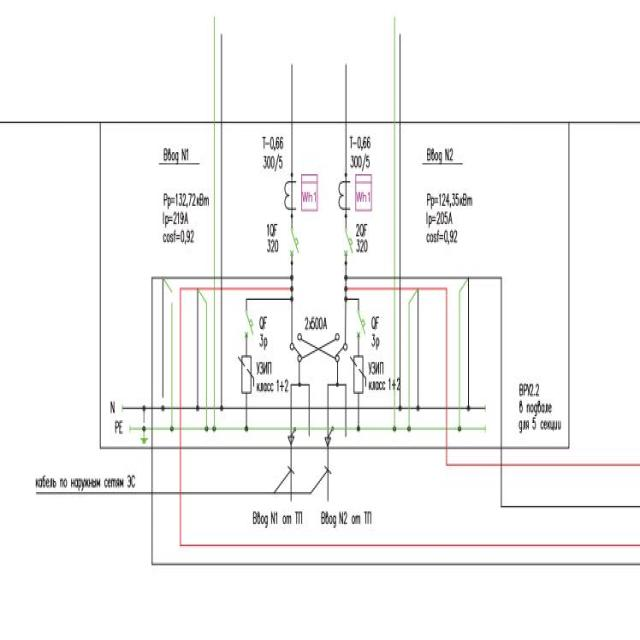-: (516, 378, 564, 436), (254, 357, 290, 394), (366, 358, 401, 393), (349, 133, 373, 170), (261, 135, 285, 172), (303, 310, 329, 334), (266, 238, 282, 254), (355, 237, 369, 255), (259, 333, 269, 351), (370, 332, 380, 349)
QF: (287, 227, 301, 258), (242, 309, 254, 342), (354, 308, 366, 340), (342, 226, 353, 259)
TT: (337, 178, 353, 213), (283, 178, 298, 212)
WH: (354, 173, 373, 213), (300, 172, 318, 212)
YZIP: (348, 352, 368, 392), (235, 354, 255, 394)
switch: (332, 331, 349, 364), (288, 331, 304, 364)
